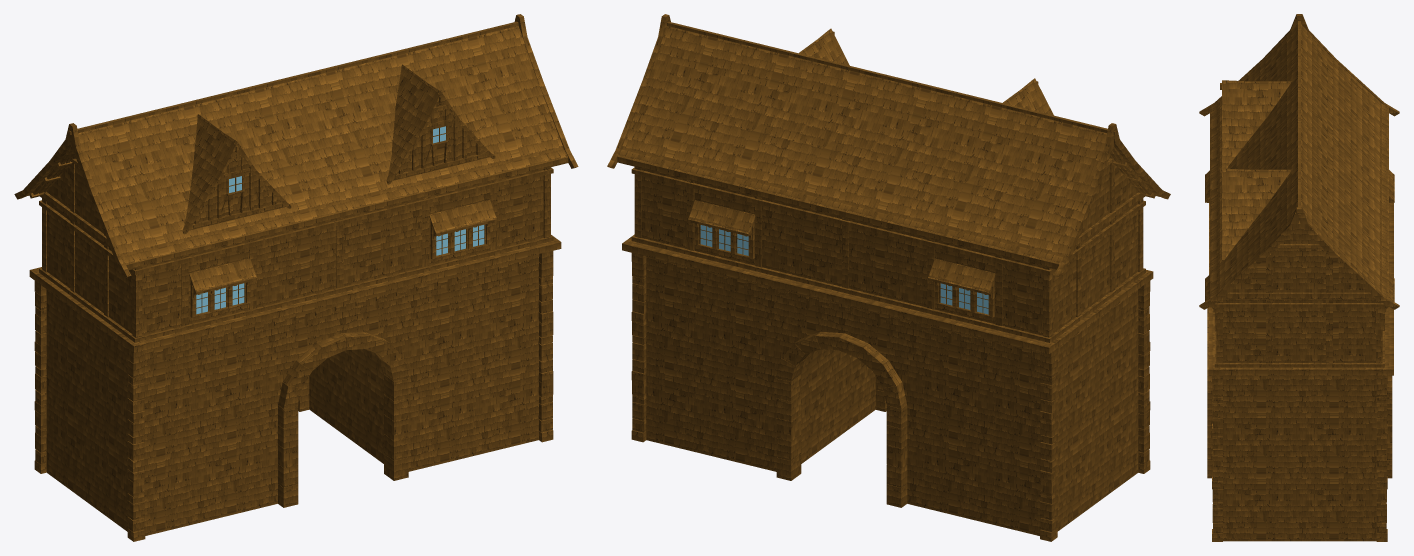
Rendered from Building_22.fbx.
3 renders of one model, left to right at view 1: azimuth 30°, elevation 25°; view 2: azimuth 150°, elevation 25°; view 3: azimuth 270°, elevation 25°, orthographic. The views are drawn at different scales.
Parts seen in each view (by area): view 1: B_014.003, B_014.002, B_014.004, B_014.001; view 2: B_014.003, B_014.002, B_014.004, B_014.001; view 3: B_014.003, B_014.002, B_014.004.
Boxes of the visible parts, x1,y1,x2,y2 form: B_014.003: (46,102,543,535); B_014.002: (28,26,568,294); B_014.004: (14,14,578,541); B_014.001: (196,126,484,314); B_014.003: (641,157,1138,535); B_014.002: (617,26,1159,294); B_014.004: (607,14,1170,541); B_014.001: (700,225,988,314); B_014.003: (1218,229,1381,541); B_014.002: (1205,24,1394,301); B_014.004: (1199,14,1399,541).
Size of the model in its own units: 3821 by 3089 by 1646.
Materials: 4 (3 with a texture image).
